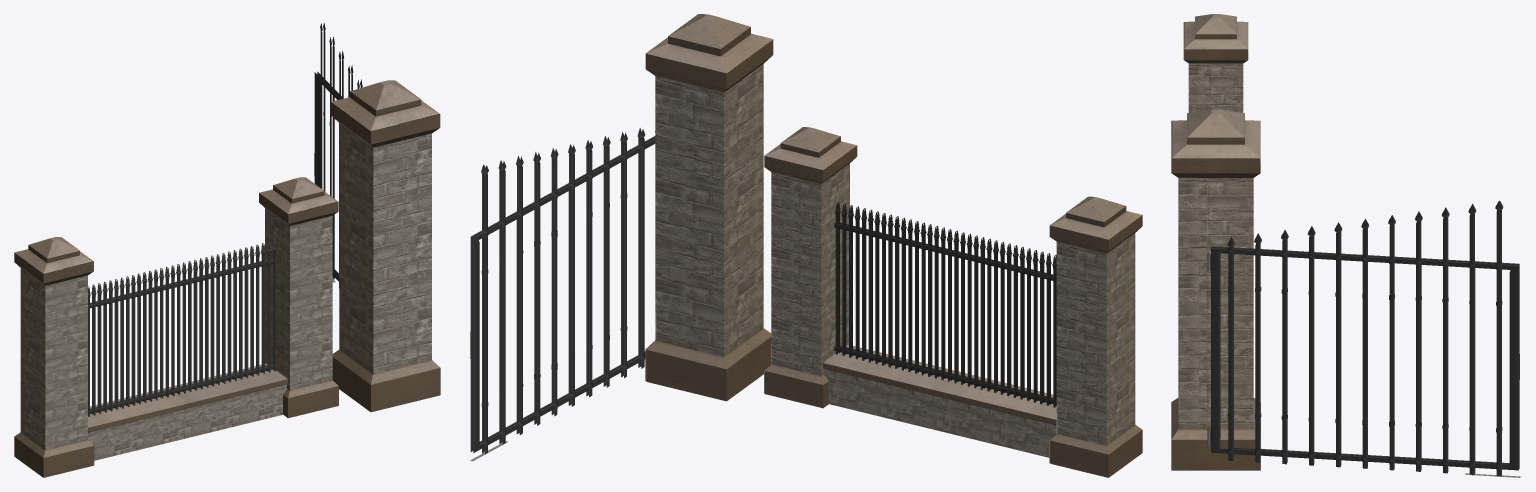
The model's file is parking fence.fbx.
3 views of the same model, side by side, from view 1: azimuth 30°, elevation 25°; view 2: azimuth 150°, elevation 25°; view 3: azimuth 270°, elevation 25° (orthographic). The views are drawn at different scales.
Visible parts, largest first — view 1: parking fence, parking gate; view 2: parking fence, parking gate; view 3: parking gate, parking fence.
Boxes of the visible parts, box(x1,y1,x2,y2) form: parking fence: box(14, 177, 338, 477); parking gate: box(314, 23, 440, 412); parking fence: box(764, 127, 1142, 477); parking gate: box(469, 14, 773, 461); parking gate: box(1171, 109, 1521, 477); parking fence: box(1183, 14, 1248, 112).
Size of the model in its own units: 765 by 526 by 492.
